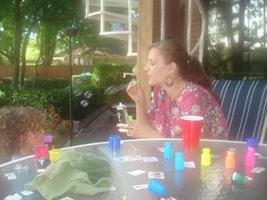person: (115, 39, 231, 143)
